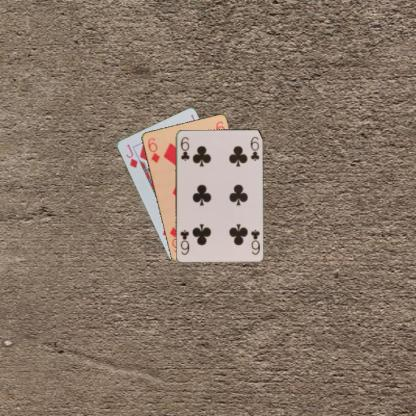6c: (248, 226, 261, 256), (178, 134, 191, 162)
6d: (145, 135, 161, 164)
Jd: (123, 142, 139, 169)
